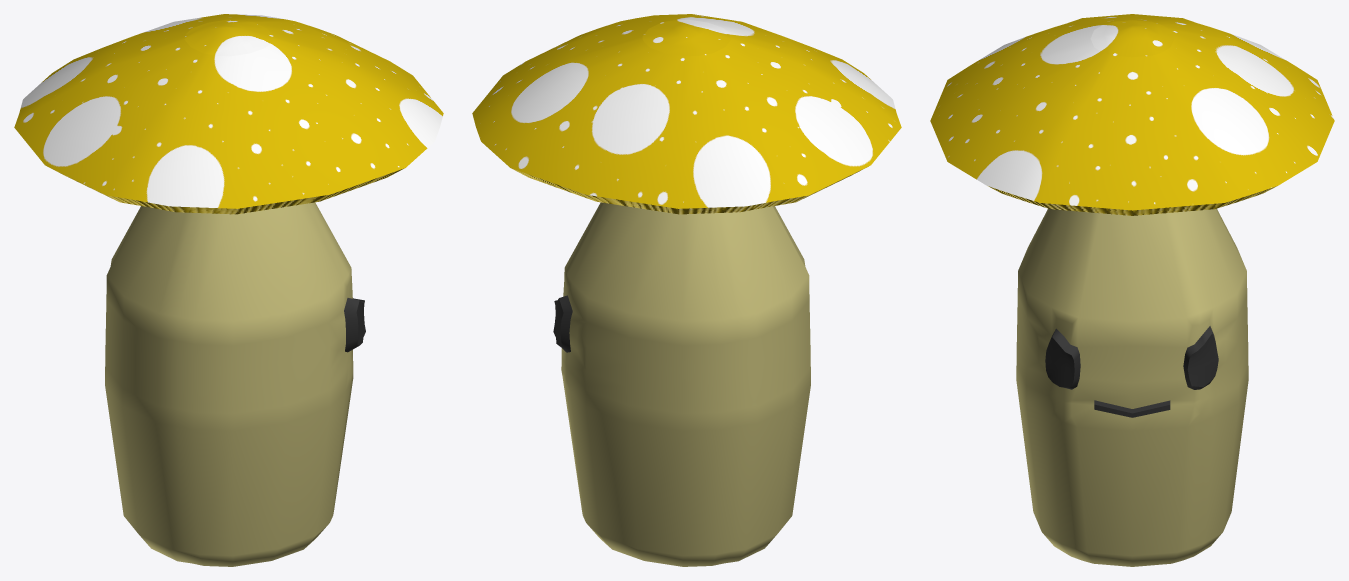
The model's file is mushroomBoi_03.fbx.
3 views of the same model, side by side, from view 1: azimuth 30°, elevation 25°; view 2: azimuth 150°, elevation 25°; view 3: azimuth 270°, elevation 25° (orthographic).
Parts seen in each view (by area): view 1: mushroomBoi_03, mushroomBoi01_cap, mushroomBoi01_ridges; view 2: mushroomBoi_03, mushroomBoi01_cap, mushroomBoi01_ridges; view 3: mushroomBoi_03, mushroomBoi01_cap, mushroomBoi01_ridges.
Part boxes in pixels (x1,y1,x2,y2): mushroomBoi_03: (105,202,365,566); mushroomBoi01_cap: (14,14,443,208); mushroomBoi01_ridges: (47,166,404,214); mushroomBoi_03: (553,202,810,566); mushroomBoi01_cap: (472,14,901,208); mushroomBoi01_ridges: (511,166,868,214); mushroomBoi_03: (1016,208,1248,566); mushroomBoi01_cap: (930,14,1334,210); mushroomBoi01_ridges: (988,186,1276,215).
Size of the model in its own units: 76.12 by 101 by 72.62.
Materials: 4 (2 with a texture image).
